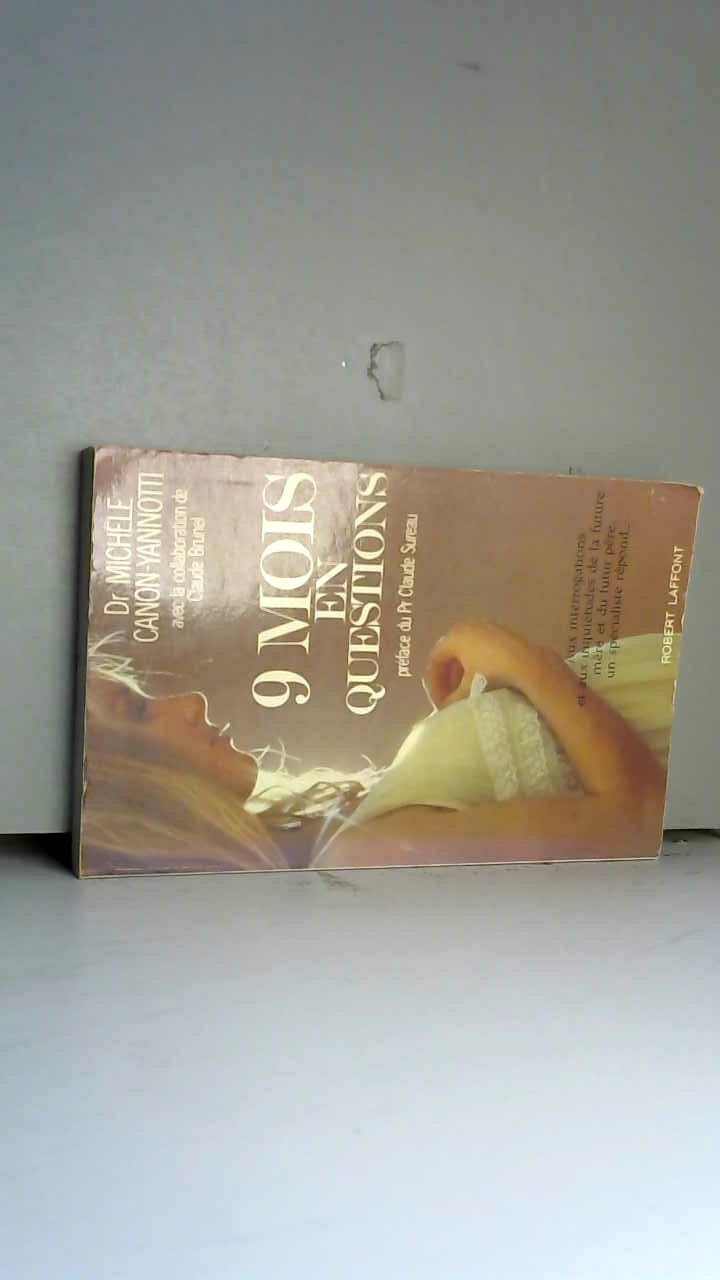book: (58, 430, 709, 893)
